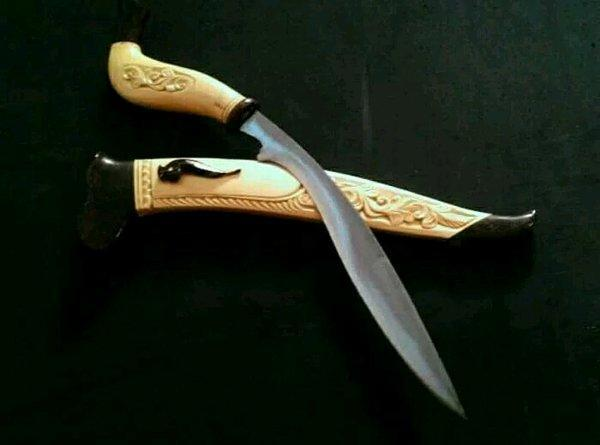faca: (108, 42, 465, 416)
